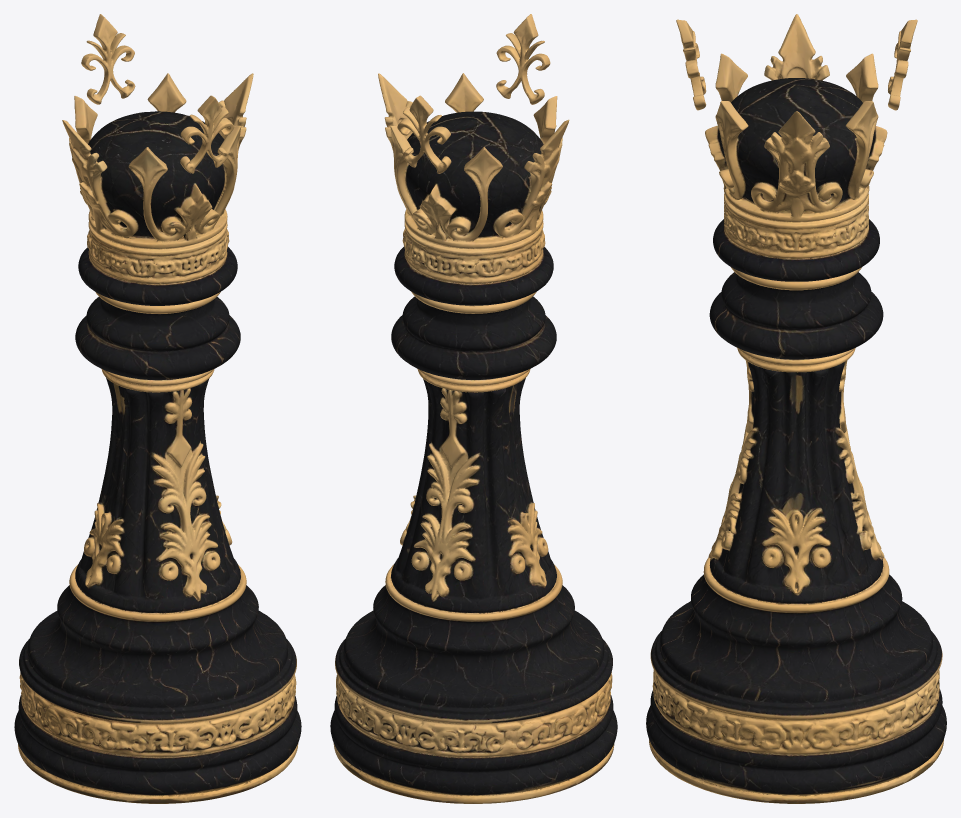
Rendered from baroque_king_black_opt.glb.
3 views of the same model, side by side, from view 1: azimuth 30°, elevation 25°; view 2: azimuth 150°, elevation 25°; view 3: azimuth 270°, elevation 25° (orthographic). The views are drawn at different scales.
Size of the model in its own units: 0.7156 by 1.9 by 0.7156.
Materials: 1 (1 with a texture image).
